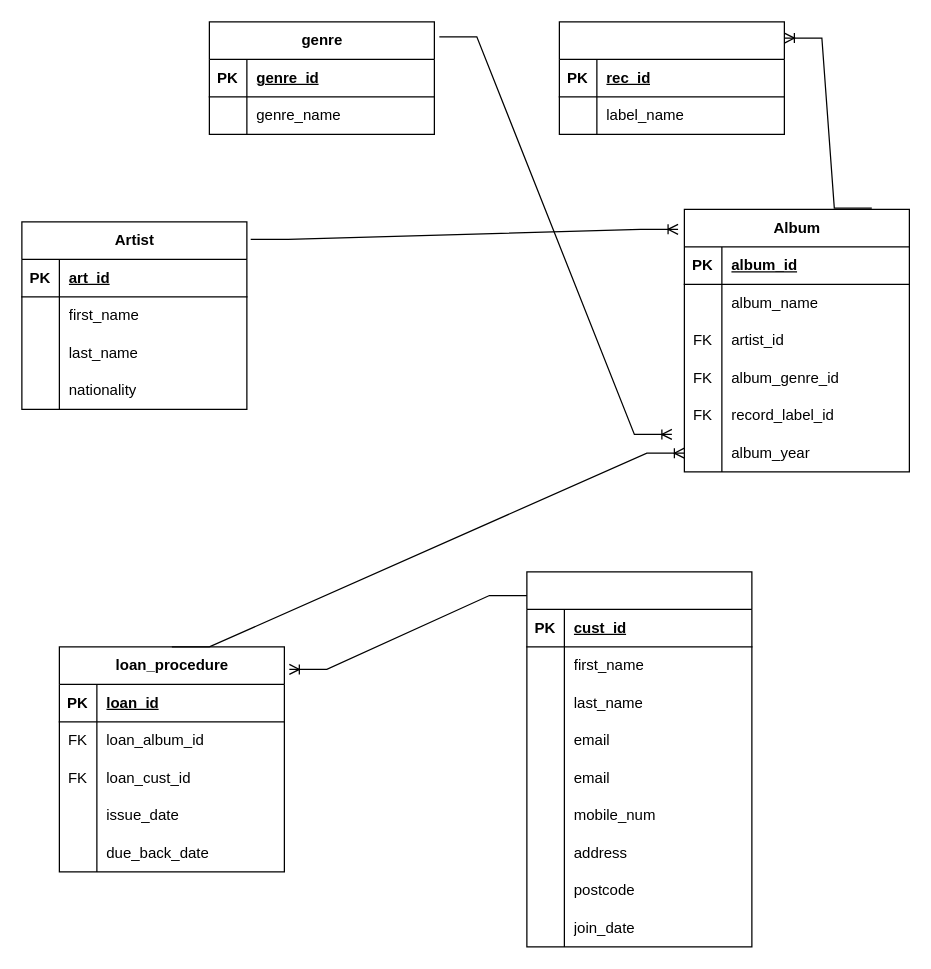
The diagram is 931 pixels wide and 969 high, and some of its shapes have lost their labels. The shapes that lost their labels are listed below. From the top down, each one's box as (x1, y1, x2, y2) in pixels, then its label:
(558, 21, 784, 134): record_label
(526, 571, 752, 947): customer
